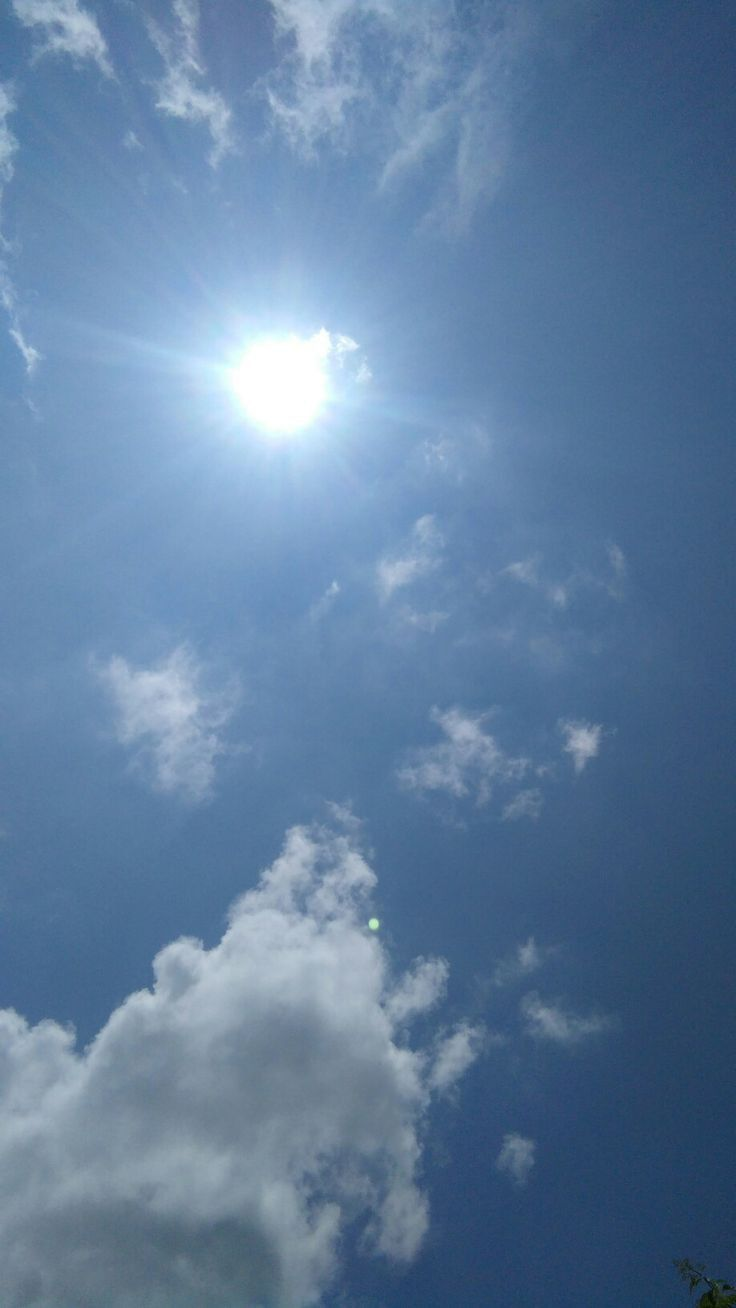sun: (175, 296, 375, 460)
